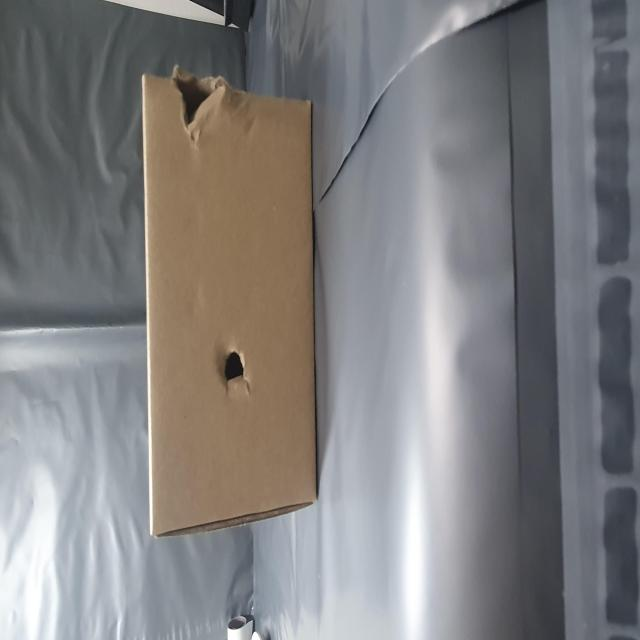damaged: (276, 289, 320, 405), (131, 375, 169, 463)
